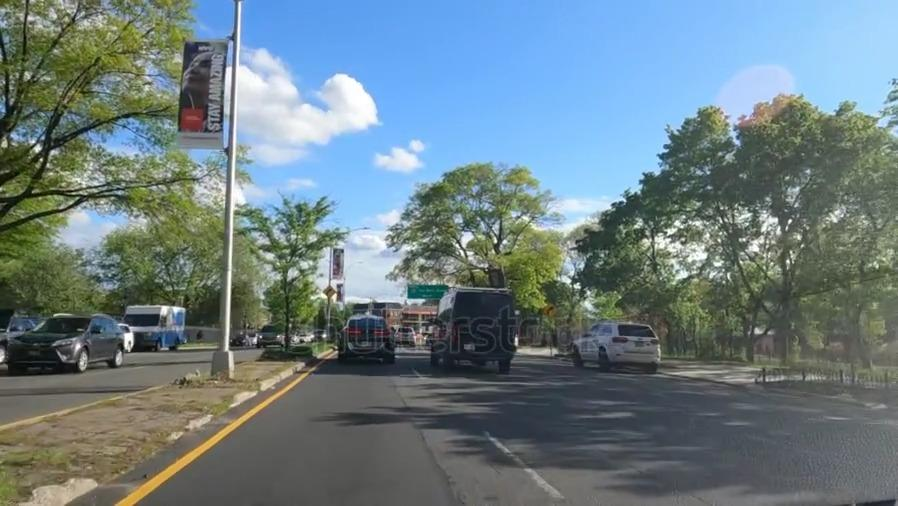car: (21, 319, 123, 367), (570, 323, 662, 371), (338, 314, 393, 359), (258, 323, 286, 345), (396, 326, 415, 346)
van: (431, 291, 511, 368), (129, 304, 187, 354)
